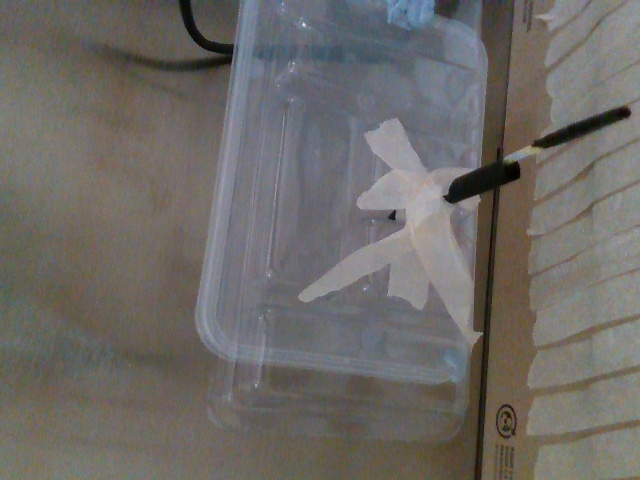test_strip: (503, 103, 631, 163)
